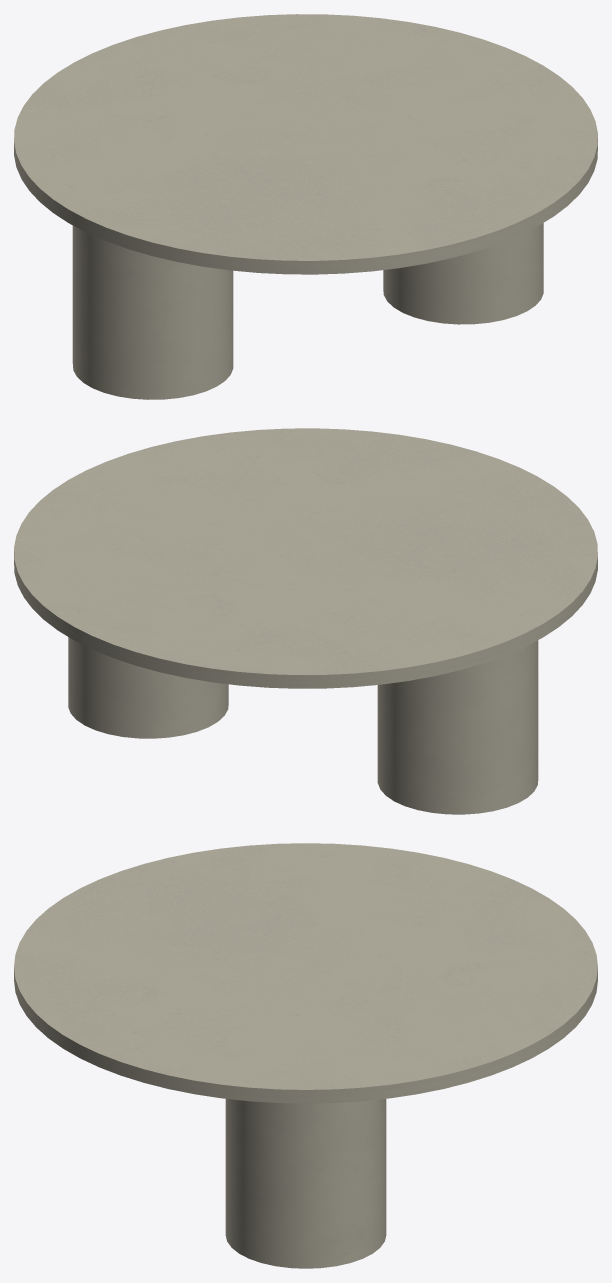
File: silk_round_standard_stream.glb
3 renders of one model, top to bottom at view 1: azimuth 30°, elevation 25°; view 2: azimuth 150°, elevation 25°; view 3: azimuth 270°, elevation 25°, orthographic.
Visible parts, largest first — view 1: silk_roundstandard_stream; view 2: silk_roundstandard_stream; view 3: silk_roundstandard_stream.
Part boxes in pixels (box(x1,y1,x2,y2)): silk_roundstandard_stream: box(14, 14, 597, 399); silk_roundstandard_stream: box(14, 428, 597, 814); silk_roundstandard_stream: box(14, 843, 597, 1268).
Bounding box in the file's own units: 6.97 × 2.52 × 6.97.
Materials: 1 (1 with a texture image).
